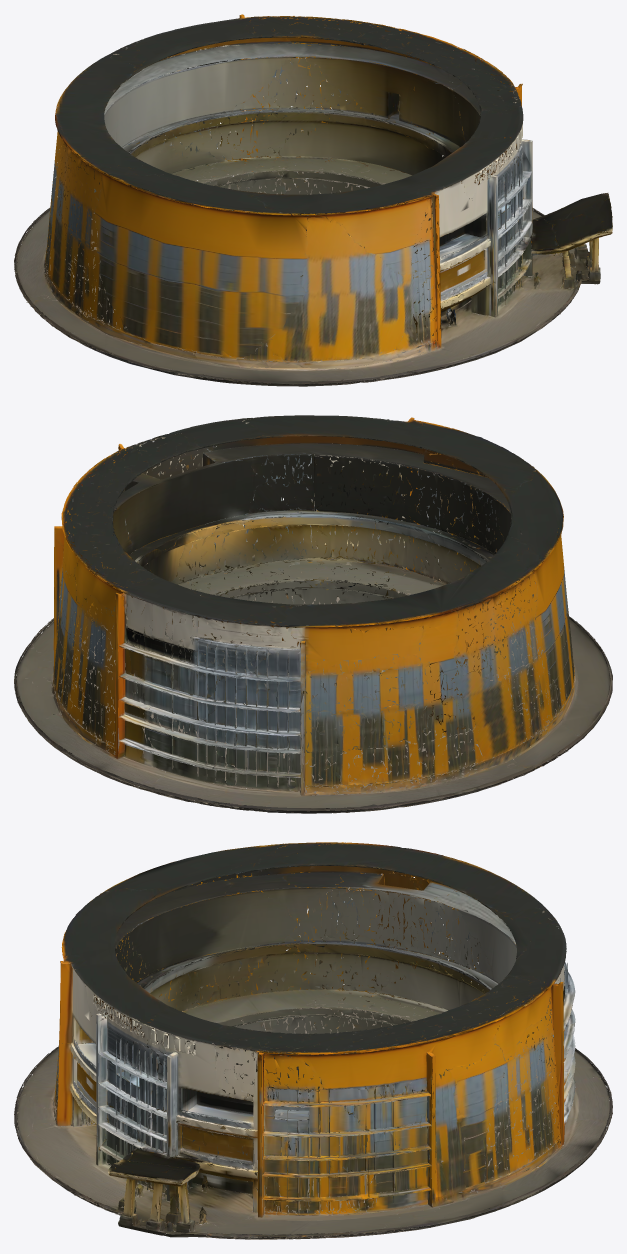
File: HALL_14.glb
The picture shows the model from 3 angles, top to bottom: view 1: azimuth 30°, elevation 25°; view 2: azimuth 150°, elevation 25°; view 3: azimuth 270°, elevation 25°; orthographic projection. The views are drawn at different scales.
Visible parts, largest first — view 1: HALL_14_Building; view 2: HALL_14_Building; view 3: HALL_14_Building.
Part boxes in pixels (bbox=[...]): HALL_14_Building: bbox=[14, 14, 612, 386]; HALL_14_Building: bbox=[14, 415, 612, 813]; HALL_14_Building: bbox=[14, 842, 612, 1239].
Size of the model in its own units: 88.66 by 27.03 by 87.09.
1 material, 1 textured.
